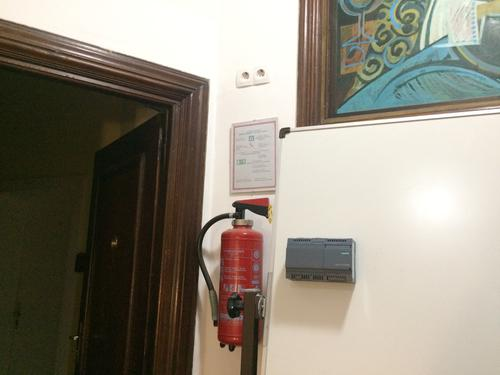iot2000: (285, 238, 357, 285)
